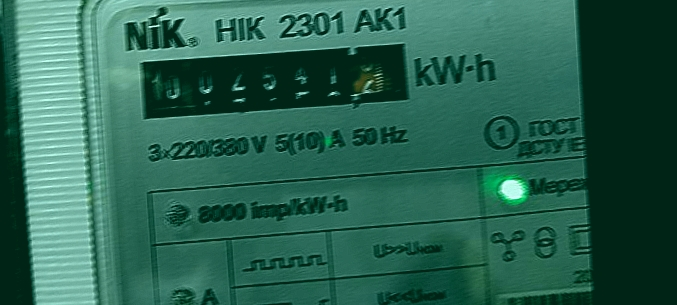0: (193, 62, 214, 96), (162, 70, 181, 100)
1: (321, 52, 338, 86)
2: (224, 59, 247, 95)
4: (290, 55, 308, 87)
5: (258, 60, 276, 93)
6: (357, 74, 374, 96)
screen: (124, 27, 428, 134)
